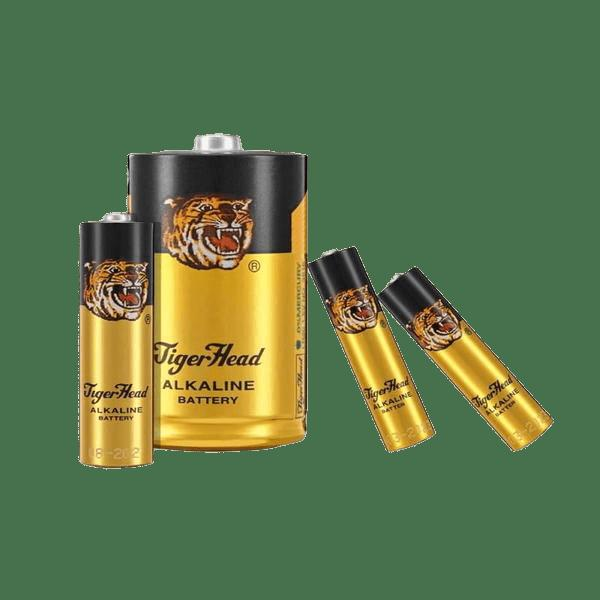AA: (72, 188, 157, 476)
